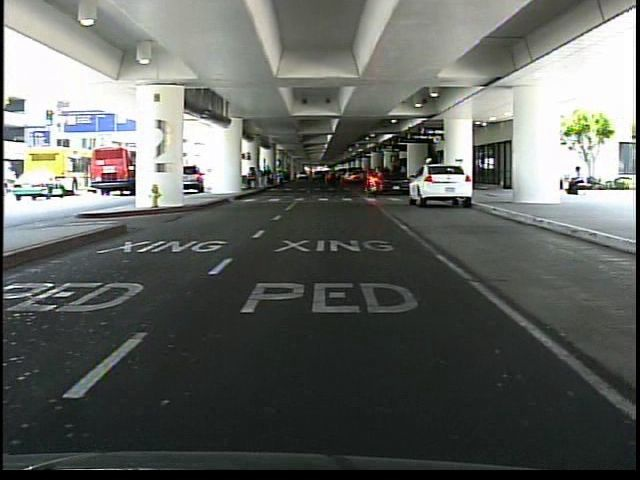person: (562, 162, 589, 199), (421, 154, 438, 204)
